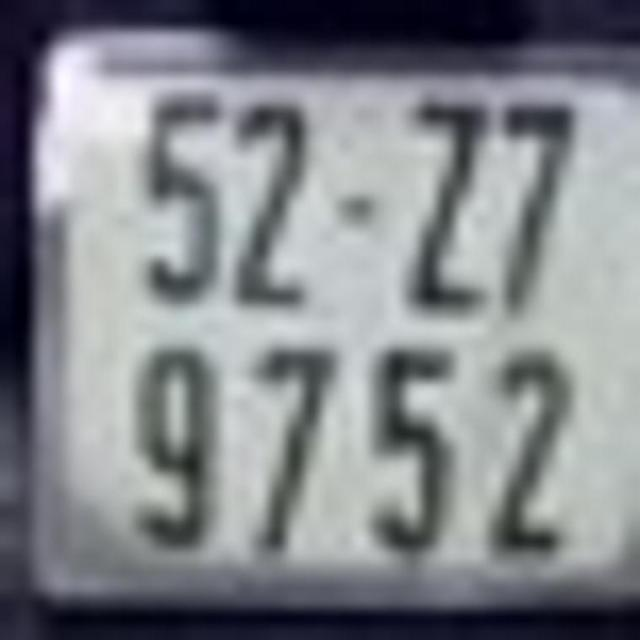2: (496, 348, 571, 554), (243, 111, 309, 306)
5: (372, 333, 459, 552), (155, 93, 218, 298)
7: (251, 348, 338, 559), (514, 96, 577, 322)
9: (138, 349, 216, 542)
Z: (418, 87, 489, 315)
